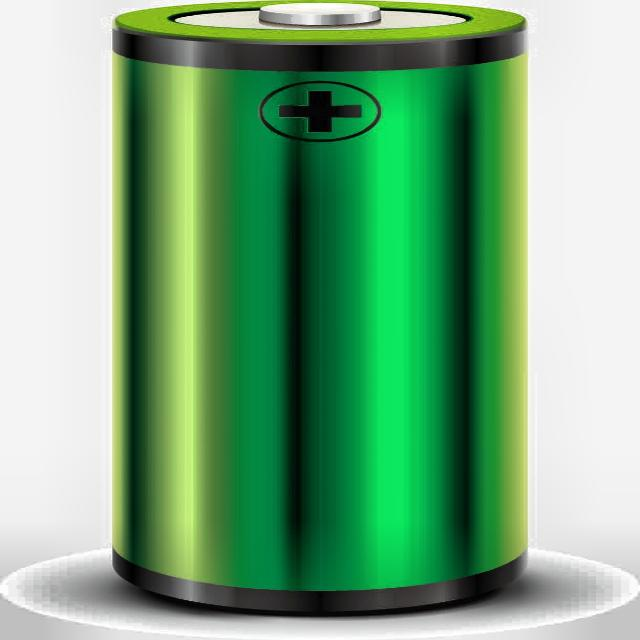Non-Valuable Waste - Batteries: (114, 0, 526, 612)
